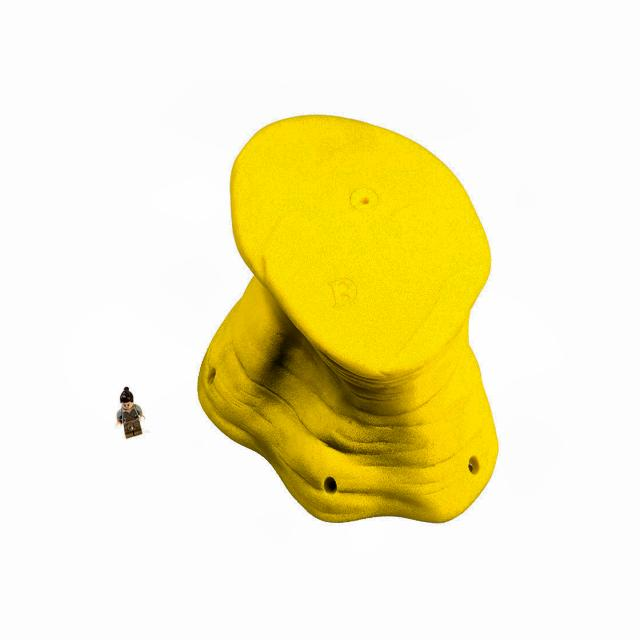Hold: (197, 98, 516, 544)
